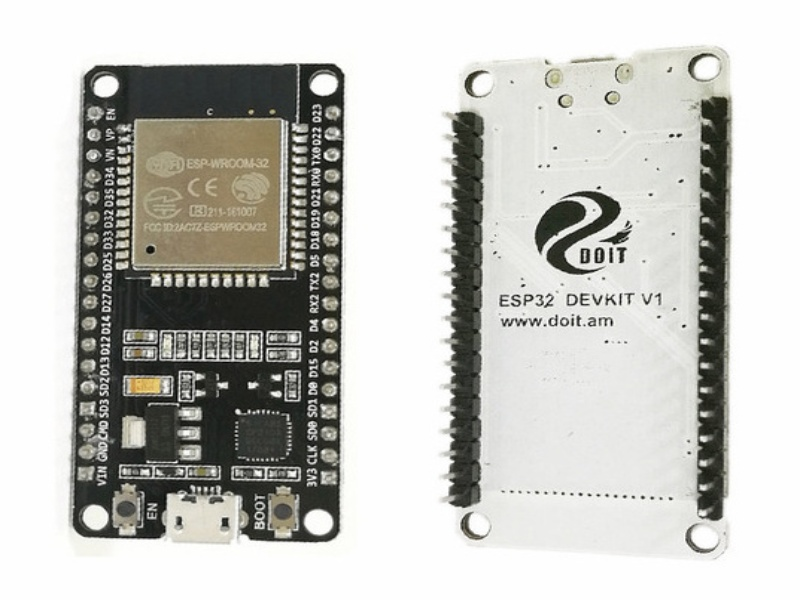esp32: (55, 44, 360, 500)
